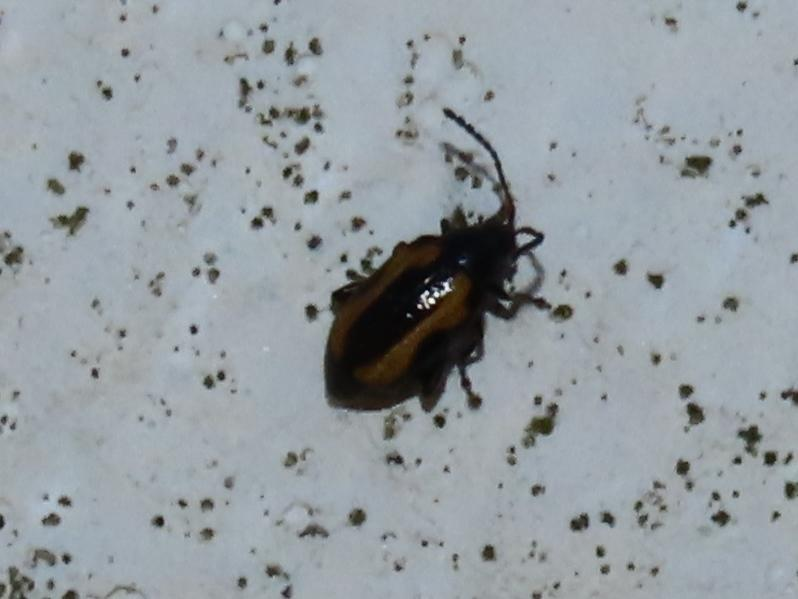flea_beetle: (272, 84, 586, 464)
